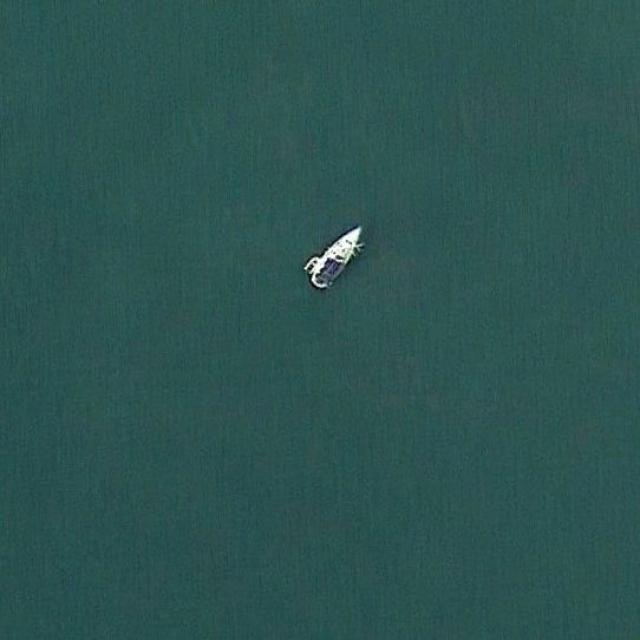ship: (307, 222, 363, 292)
